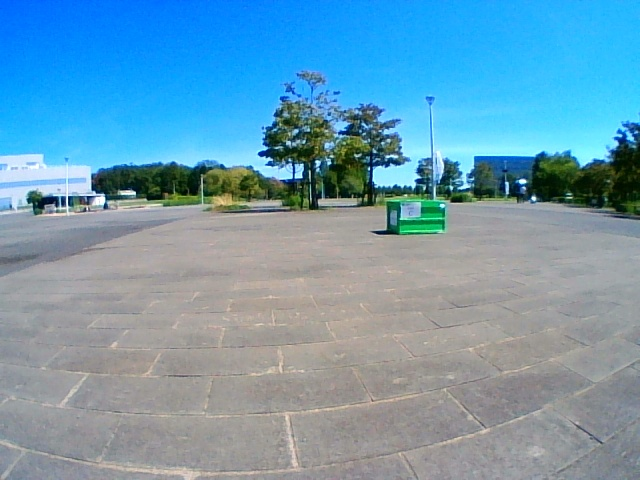green_box: (386, 199, 445, 234)
tag: (400, 201, 420, 218)
